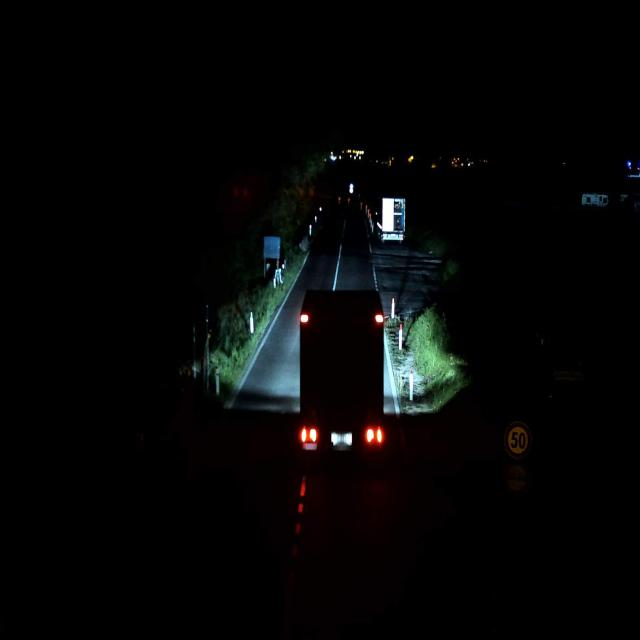truck: (296, 288, 388, 457), (377, 194, 407, 244)
